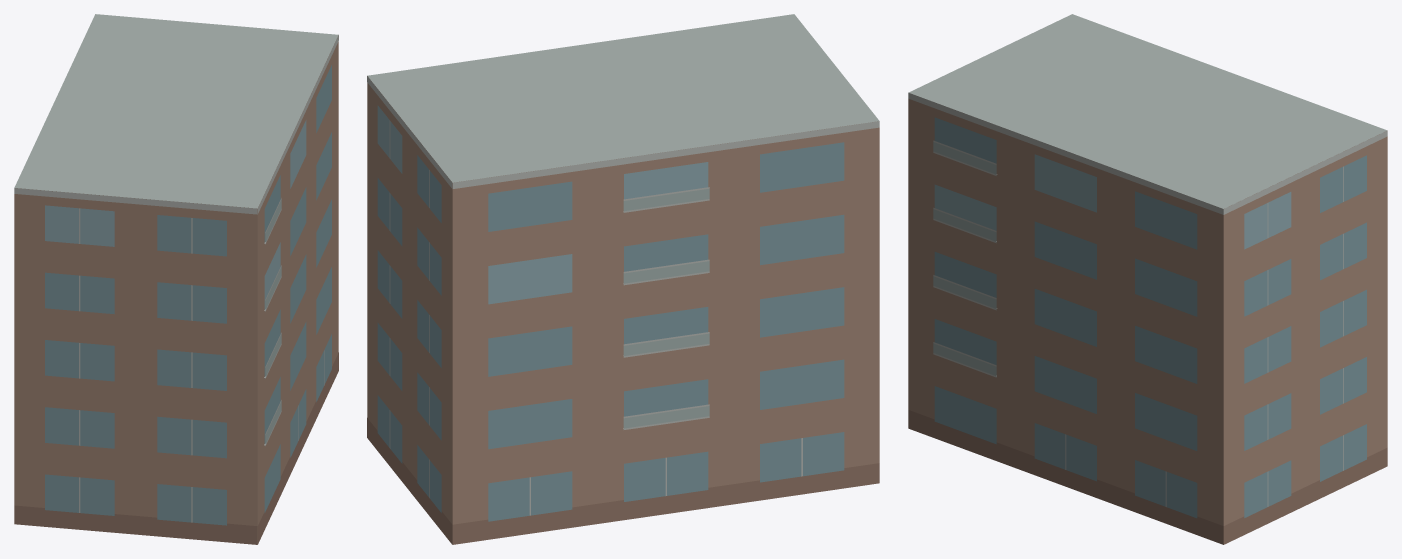
Rendered from survey-upis-32605471.glb.
3 renders of one model, left to right at view 1: azimuth 30°, elevation 25°; view 2: azimuth 150°, elevation 25°; view 3: azimuth 270°, elevation 25°, orthographic. The views are drawn at different scales.
Visible parts, largest first — view 1: survey-upis-32605471.tmp; view 2: survey-upis-32605471.tmp; view 3: survey-upis-32605471.tmp.
Part boxes in pixels (x1,y1,x2,y2): survey-upis-32605471.tmp: (14, 14, 338, 544); survey-upis-32605471.tmp: (367, 14, 879, 544); survey-upis-32605471.tmp: (908, 14, 1387, 544).
Bounding box in the file's own units: 17 × 13.65 × 17.66.
